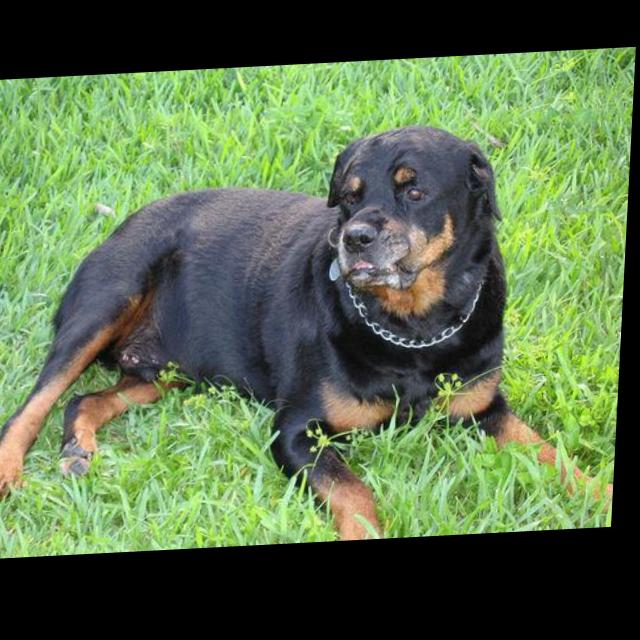rottweiler: (1, 119, 635, 561)
